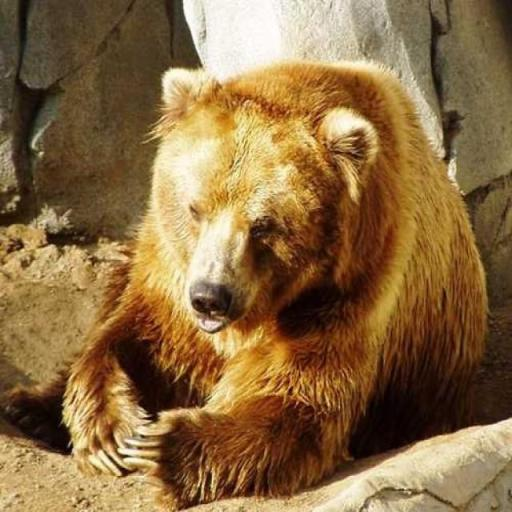Bear: (0, 58, 490, 511)
